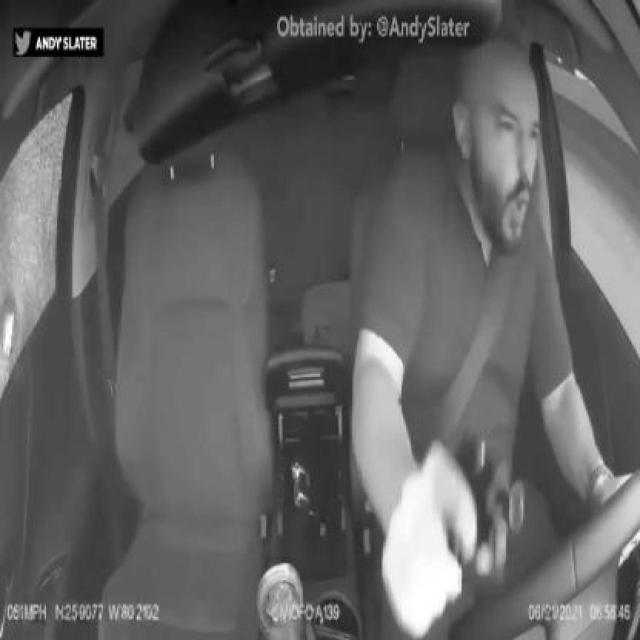weapon: (440, 433, 528, 584)
